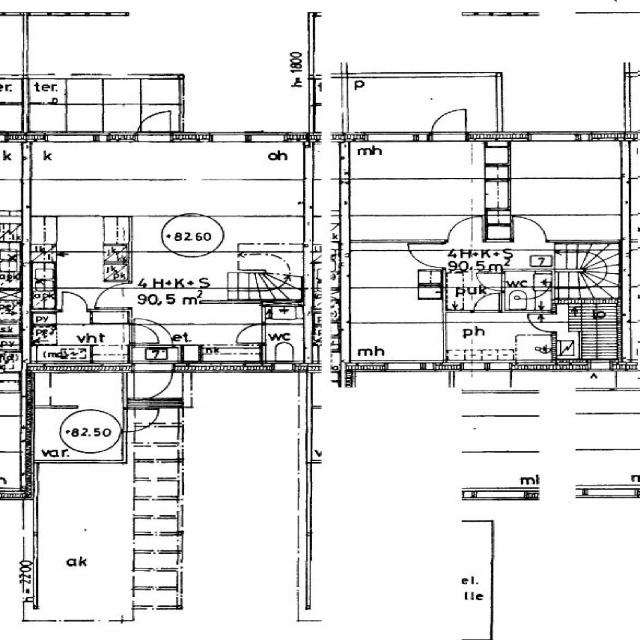door: (134, 363, 172, 399), (136, 108, 170, 141), (430, 108, 464, 141), (135, 319, 172, 347), (94, 283, 132, 308), (448, 216, 482, 242), (123, 409, 160, 432), (409, 244, 446, 267), (514, 217, 546, 242), (128, 324, 160, 343), (234, 323, 266, 342), (474, 292, 499, 313), (476, 273, 505, 291), (527, 314, 557, 331), (62, 292, 86, 312)
